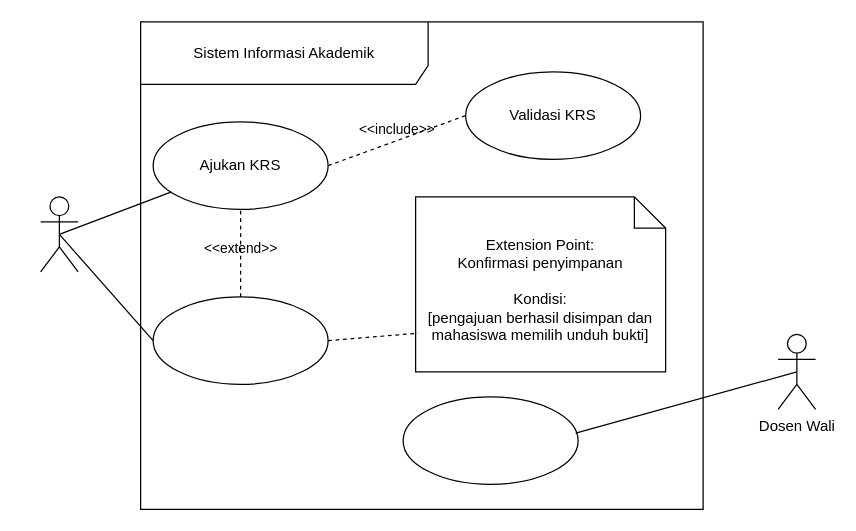
Some shapes in this 856 by 531 pixel diagram are drawn without their labels. The shapes that lost their labels are listed below. From the top down, each one's box as (x1, y1, x2, y2) in pixels, then its label:
(39, 196, 78, 272): Mahasiswa
(152, 296, 328, 384): Unduh Bukti Pengajuan KRS
(402, 396, 578, 484): Proses Keputusan KRS
